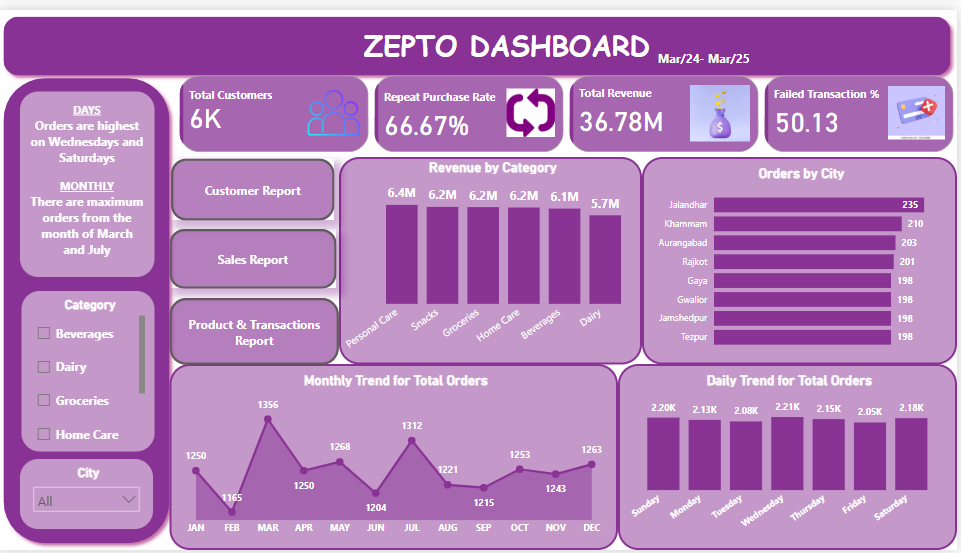

The dashboard page shown, as its layout file describes it:
{"tool":"powerbi","page":{"name":"Main Page","canvas":[1280,720],"ordinal":0},"visuals":[{"type":"barChart","title":"Orders by City","fields":{"Y":["CountNonNull(Orders.Or_ID)"],"Category":["Customers.City"]},"box":[860.5,195.6,419.9,276.8],"z":0},{"type":"columnChart","title":"Revenue by Category","fields":{"Y":["New Measures.Total_Amount_After_Discount"],"Category":["Products.Category"]},"box":[456.5,195.6,404,276.8],"z":1000},{"type":"shape","box":[0,0,1280,96],"z":2000},{"type":"shape","box":[0,82.7,238.6,637.8],"z":3000},{"type":"cardVisual","fields":{"Data":["New Measures.Total Customers Ordered","New Measures.Repeat Purchase Rate","New Measures.Total_Amount_After_Discount","New Measures.Failed Transaction %"]},"box":[238.6,82.7,1043.4,112.9],"z":4000},{"type":"areaChart","title":"Monthly Trend for Total Orders","fields":{"Y":["CountNonNull(Orders.Or_ID)"],"Category":["Orders.Order_Month"]},"box":[230.6,472.4,598.1,248.1],"z":5000},{"type":"textbox","box":[483.5,14.3,516.9,68.4],"z":6000},{"type":"slicer","title":"Category","fields":{"Values":["Products.Category"]},"box":[30.2,372.2,182.9,219.5],"z":7000},{"type":"slicer","title":"City","fields":{"Values":["Customers.City"]},"box":[28.6,596.5,182.9,98.6],"z":8000},{"type":"actionButton","box":[232.2,197.2,217.9,82.7],"z":9000},{"type":"actionButton","box":[230.6,383.3,225.9,89.1],"z":10000},{"type":"actionButton","box":[230.6,292.7,222.7,79.5],"z":11000},{"type":"textbox","box":[876.4,47.7,154.3,39.8],"z":12000},{"type":"columnChart","title":"Daily Trend for Total Orders","fields":{"Y":["CountNonNull(Orders.Or_ID)"],"Category":["Orders.Day Name"]},"box":[828.7,472.4,451.7,248.1],"z":13000},{"type":"textbox","box":[27,106.6,184.5,252.9],"z":14000}]}

Visuals, with their boxes in screenshot pixels (x1, y1, x2, y2), scaled from the page's 1280x720 canvas onto the 961x553 screenshot:
"Orders by City" barChart: <box>646,150,960,363</box>
"Revenue by Category" columnChart: <box>343,150,646,363</box>
shape: <box>0,0,960,74</box>
shape: <box>0,64,179,552</box>
cardVisual - New Measures.Total Customers Ordered x New Measures.Repeat Purchase Rate: <box>179,64,960,150</box>
"Monthly Trend for Total Orders" areaChart: <box>173,363,622,552</box>
textbox: <box>363,11,751,64</box>
"Category" slicer: <box>23,286,160,454</box>
"City" slicer: <box>21,458,159,534</box>
actionButton: <box>174,151,338,215</box>
actionButton: <box>173,294,343,363</box>
actionButton: <box>173,225,340,286</box>
textbox: <box>658,37,774,67</box>
"Daily Trend for Total Orders" columnChart: <box>622,363,960,552</box>
textbox: <box>20,82,159,276</box>
